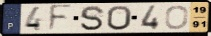4: (22, 6, 45, 32), (139, 4, 161, 31)
F: (47, 4, 74, 34)
O: (163, 5, 190, 31), (106, 5, 133, 31)
S: (79, 5, 106, 32)
